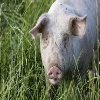heo: (30, 12, 89, 86)
